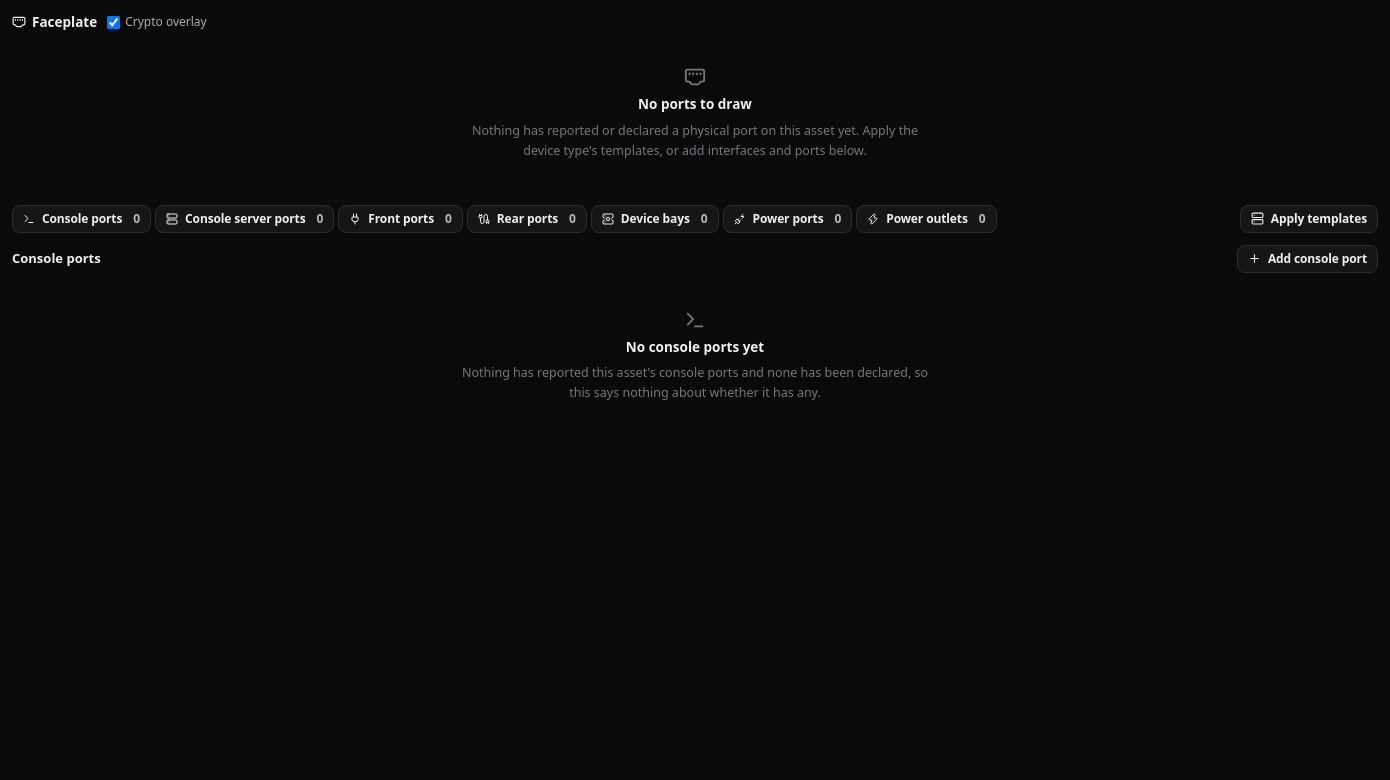
Scenario: Apply templates › posts the asset's device type and reports every kind it created or skipped
Click the button "Apply templates". click: click(1309, 218)
box: [1240,204,1378,232]
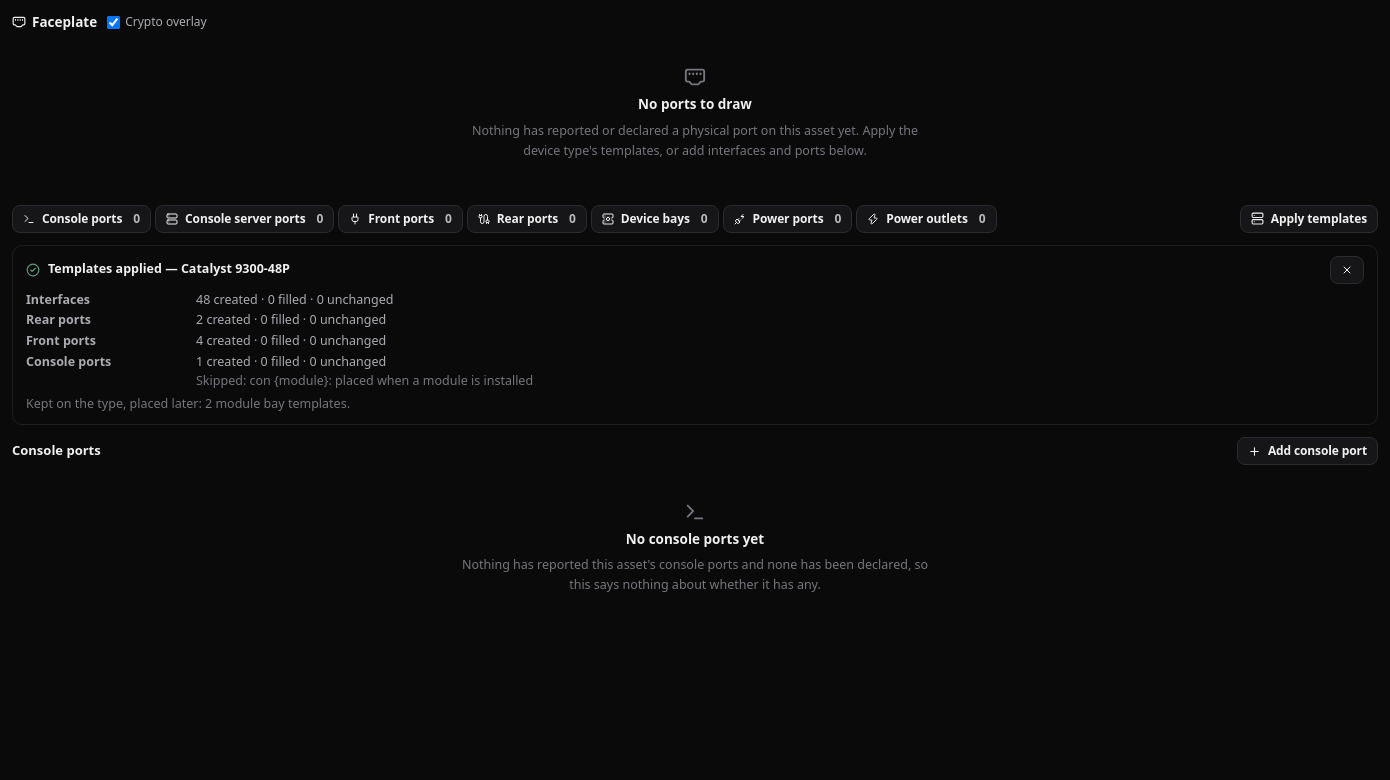
Expected: the text "2 module bay templates" is shown, [205,395,347,412]
